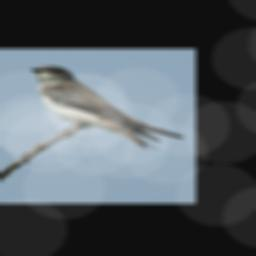Swallow: (29, 65, 184, 150)
